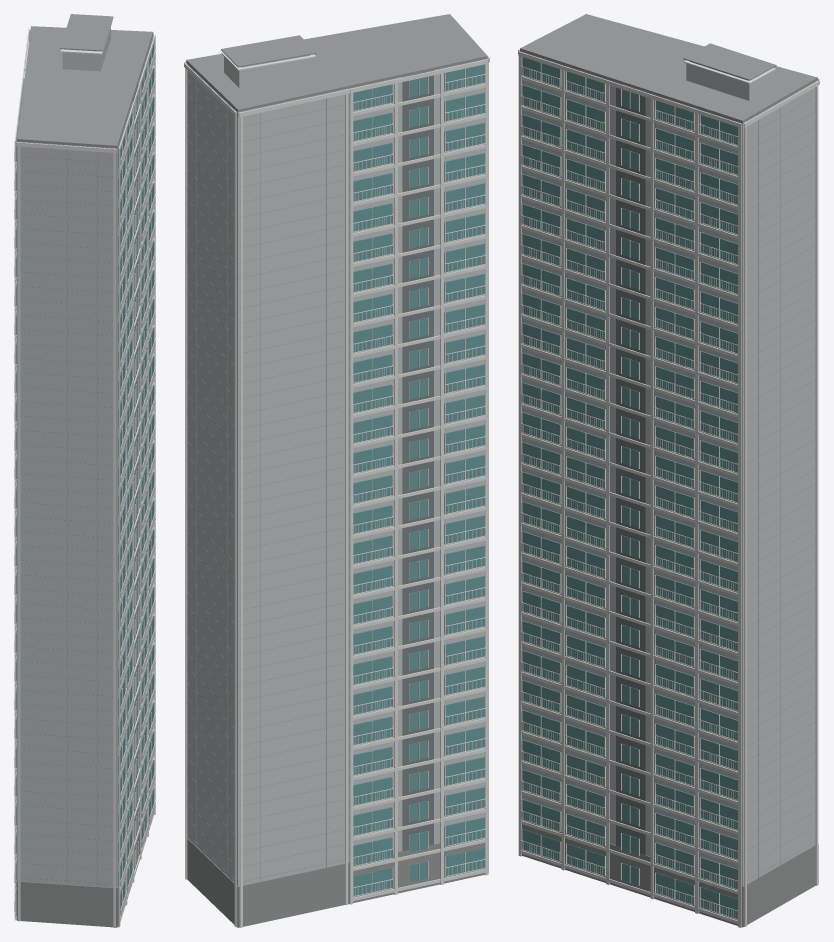
Rendered from bespoke-jamsil-ricenz-212.glb.
The picture shows the model from 3 angles, left to right: view 1: azimuth 30°, elevation 25°; view 2: azimuth 150°, elevation 25°; view 3: azimuth 270°, elevation 25°; orthographic projection. The views are drawn at different scales.
Parts seen in each view (by area): view 1: Ricenz212_editable_Ricenz212_light_grey_solid_wall, Ricenz212_editable_Ricenz212_modest_grey_flat_roof_caps, Ricenz212_white_exact_chunk_0, Ricenz212_editable_Ricenz212_turquoise_balcony_glazing, Ricenz212_white_exact_chunk_1, Ricenz212_editable_Ricenz212_muted_ground_wall, Ricenz212_white_exact_chunk_2, Ricenz212_editable_Ricenz212_narrow_charcoal_service_strips; view 2: Ricenz212_editable_Ricenz212_light_grey_solid_wall, Ricenz212_editable_Ricenz212_turquoise_balcony_glazing, Ricenz212_white_exact_chunk_2, Ricenz212_white_exact_chunk_1, Ricenz212_editable_Ricenz212_modest_grey_flat_roof_caps, Ricenz212_editable_Ricenz212_narrow_charcoal_service_strips, Ricenz212_editable_Ricenz212_muted_ground_wall, Ricenz212_white_exact_chunk_0; view 3: Ricenz212_editable_Ricenz212_light_grey_solid_wall, Ricenz212_editable_Ricenz212_turquoise_balcony_glazing, Ricenz212_white_exact_chunk_1, Ricenz212_white_exact_chunk_0, Ricenz212_editable_Ricenz212_modest_grey_flat_roof_caps, Ricenz212_editable_Ricenz212_narrow_charcoal_service_strips, Ricenz212_editable_Ricenz212_muted_ground_wall.
Boxes of the visible parts, <box> form: Ricenz212_editable_Ricenz212_light_grey_solid_wall: <box>17,27,153,887</box>; Ricenz212_editable_Ricenz212_modest_grey_flat_roof_caps: <box>17,14,153,886</box>; Ricenz212_white_exact_chunk_0: <box>16,93,148,927</box>; Ricenz212_editable_Ricenz212_turquoise_balcony_glazing: <box>16,39,153,913</box>; Ricenz212_white_exact_chunk_1: <box>21,28,155,927</box>; Ricenz212_editable_Ricenz212_muted_ground_wall: <box>16,787,153,927</box>; Ricenz212_white_exact_chunk_2: <box>14,20,112,920</box>; Ricenz212_editable_Ricenz212_narrow_charcoal_service_strips: <box>19,84,138,835</box>; Ricenz212_editable_Ricenz212_light_grey_solid_wall: <box>186,55,487,886</box>; Ricenz212_editable_Ricenz212_turquoise_balcony_glazing: <box>353,64,484,895</box>; Ricenz212_white_exact_chunk_2: <box>221,52,488,904</box>; Ricenz212_white_exact_chunk_1: <box>184,61,440,927</box>; Ricenz212_editable_Ricenz212_modest_grey_flat_roof_caps: <box>186,14,487,882</box>; Ricenz212_editable_Ricenz212_narrow_charcoal_service_strips: <box>402,70,433,851</box>; Ricenz212_editable_Ricenz212_muted_ground_wall: <box>187,838,484,927</box>; Ricenz212_white_exact_chunk_0: <box>452,16,489,872</box>; Ricenz212_editable_Ricenz212_light_grey_solid_wall: <box>520,51,817,886</box>; Ricenz212_editable_Ricenz212_turquoise_balcony_glazing: <box>522,57,737,918</box>; Ricenz212_white_exact_chunk_1: <box>518,51,819,927</box>; Ricenz212_white_exact_chunk_0: <box>518,49,694,909</box>; Ricenz212_editable_Ricenz212_modest_grey_flat_roof_caps: <box>520,14,817,880</box>; Ricenz212_editable_Ricenz212_narrow_charcoal_service_strips: <box>616,82,646,855</box>; Ricenz212_editable_Ricenz212_muted_ground_wall: <box>522,819,818,927</box>.
Size of the model in its own units: 23.23 by 82.73 by 27.3.
